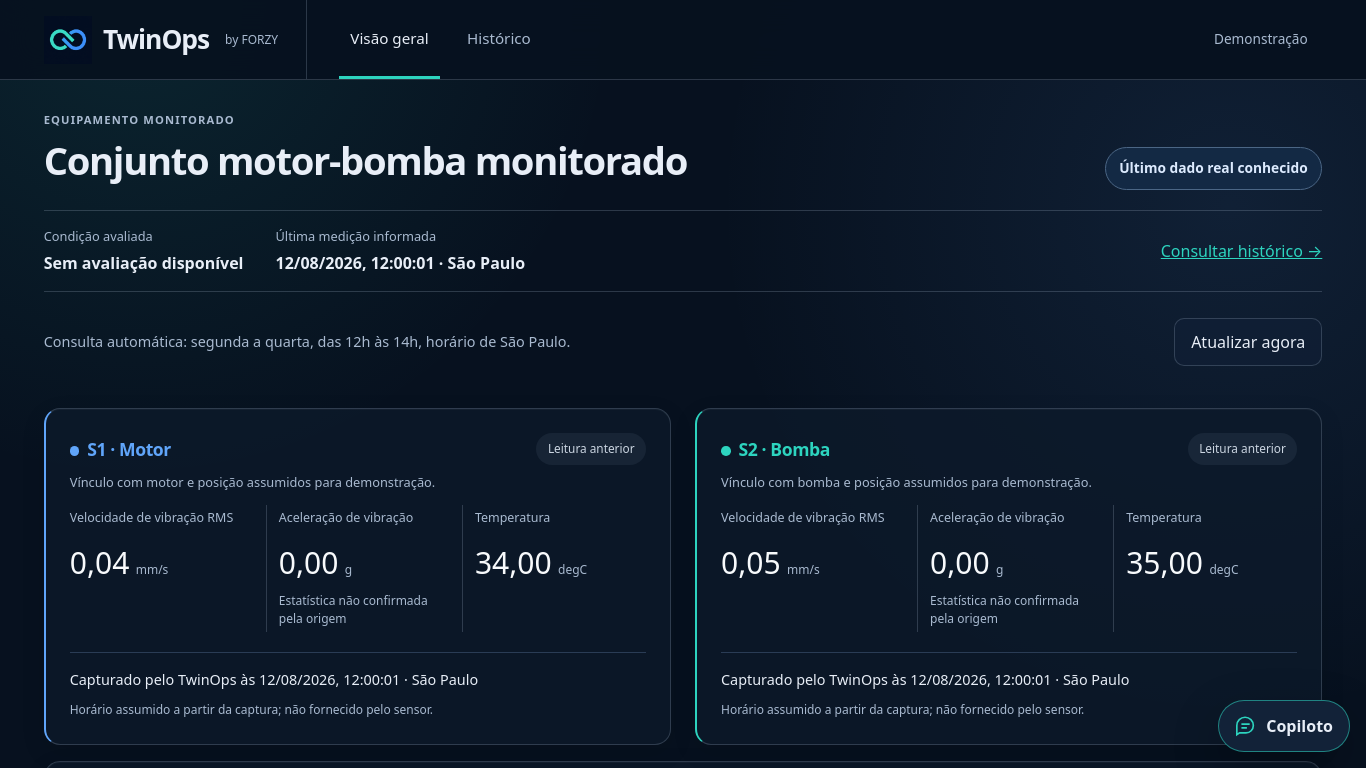
Scenario: keeps last-known data visible after a later read fails
The image size is (1366, 768).
Click the button "Atualizar agora": (1248, 342) [1174, 318, 1322, 366]
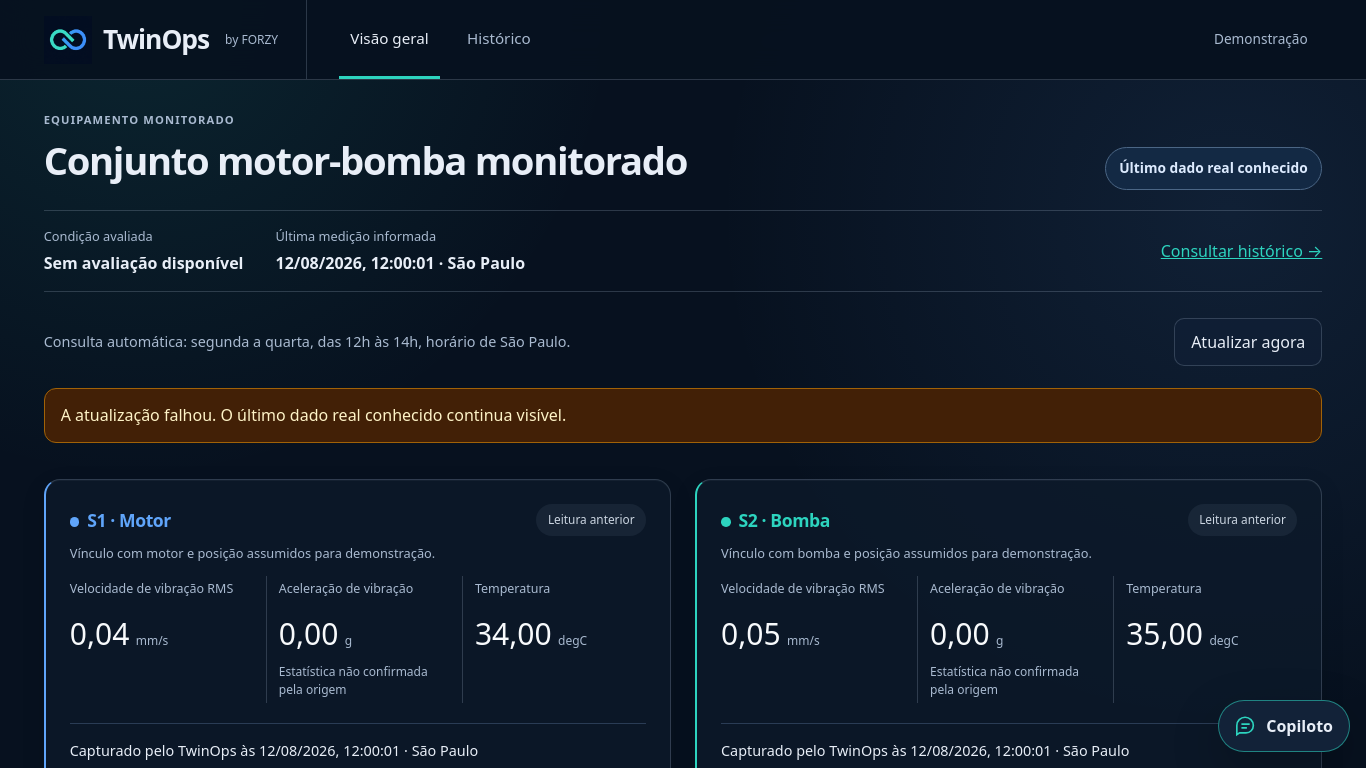
Expected: the text "Último dado real conhecido" is shown, [1104, 147, 1322, 190]
Now the text "A atualização falhou. O último dado real conhecido continua visível." is shown, box [44, 388, 1322, 443]
